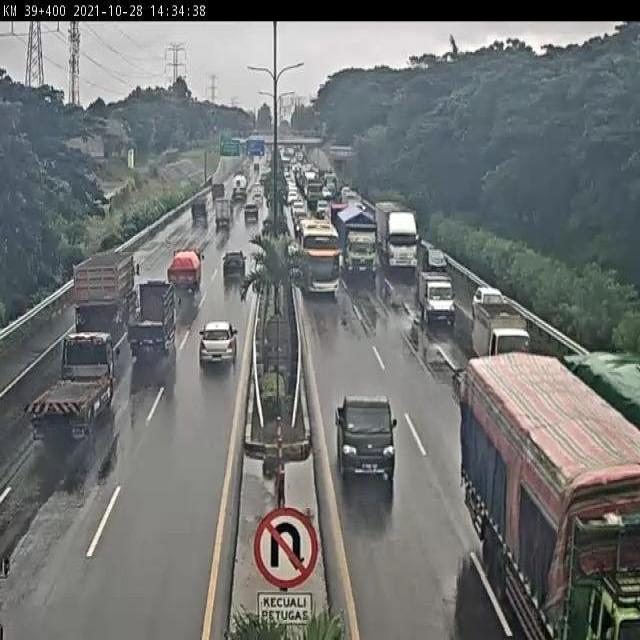big bus: (300, 219, 343, 296)
big truck: (457, 360, 640, 640), (74, 248, 142, 335), (375, 197, 421, 272), (336, 202, 380, 278)
car: (337, 399, 400, 484), (420, 272, 457, 328), (199, 324, 238, 365), (423, 242, 452, 274), (221, 249, 248, 280), (191, 197, 208, 220), (243, 203, 260, 220)
small truck: (26, 334, 123, 434), (127, 283, 181, 356), (472, 299, 531, 361), (164, 249, 205, 292), (214, 199, 233, 229)
